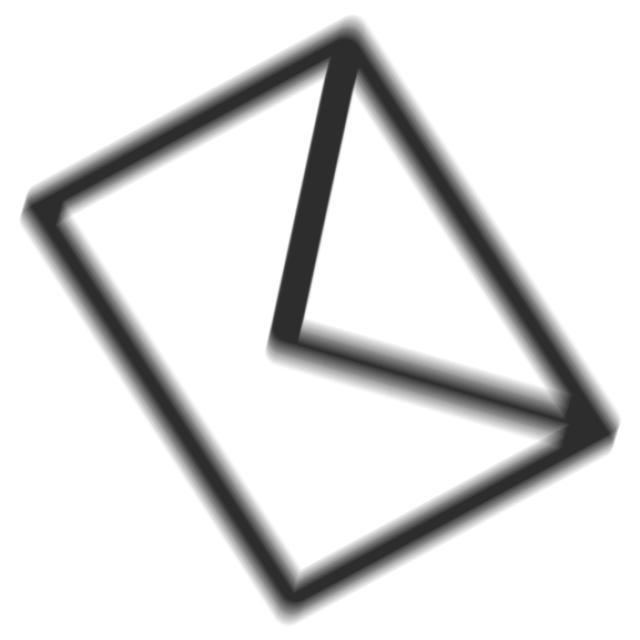letter: (9, 8, 635, 631)
